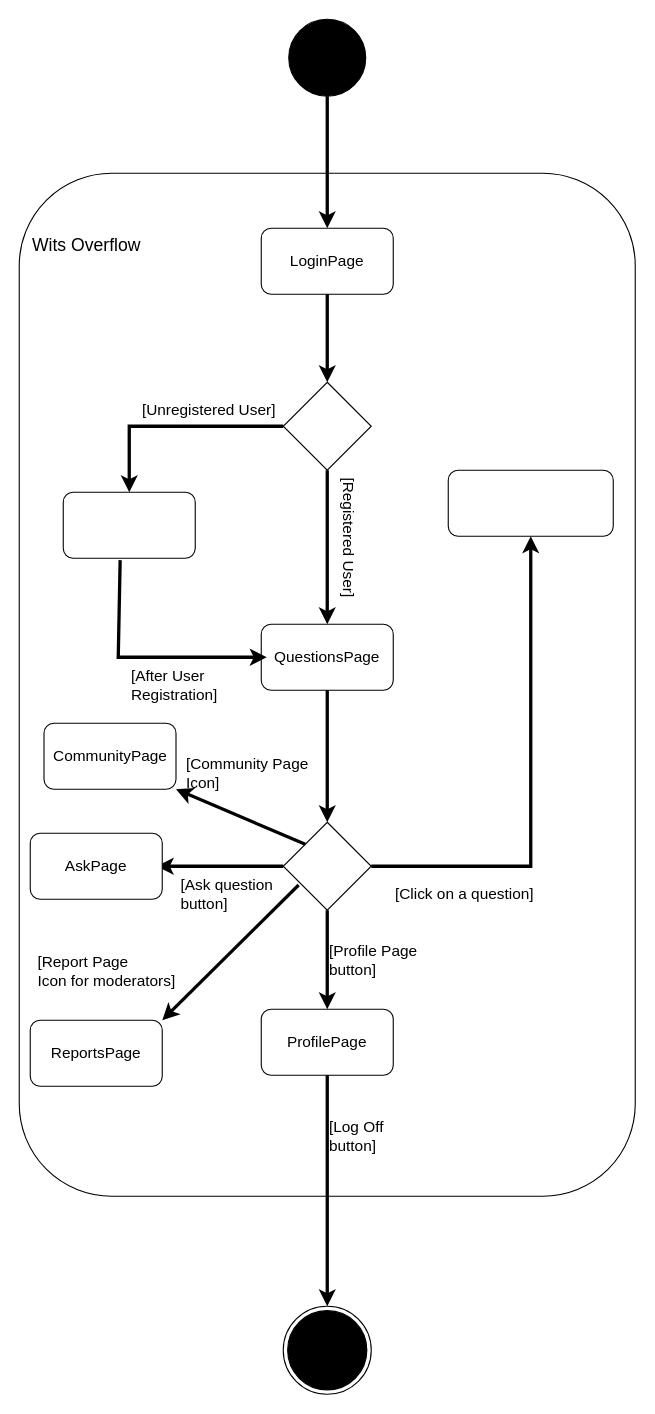
The diagram is 655 pixels wide and 1414 high, and some of its shapes have lost their labels. Each missing label, with the box of its shape:
Sign up: (62, 491, 195, 558)
SingleQuestionPage: (447, 469, 613, 536)
